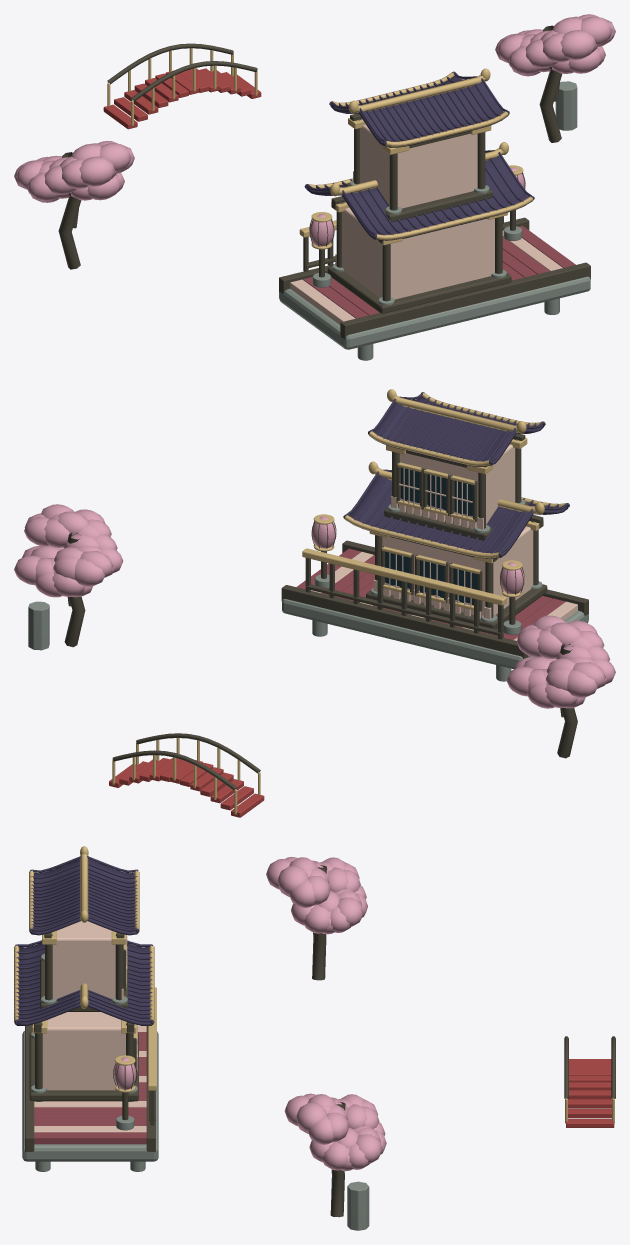
File: wano.glb
3 renders of one model, top to bottom at view 1: azimuth 30°, elevation 25°; view 2: azimuth 150°, elevation 25°; view 3: azimuth 270°, elevation 25°, orthographic.
Visible parts, largest first — view 1: Wano keep wall, Wano keep wall.001, Foundation stone, Wano keep1 roof shell, Wano keep0 roof shell, Mortised deck edge, Wano keep raised sill, Wano keep raised sill.001, Wano keep1 ridge, Twisting tree trunk, Twisting tree trunk.001, Stone lantern pedestal (+27 smaller); view 2: Wano keep1 roof shell, Foundation stone, Wano keep0 roof shell, Mortised deck edge.001, Wano keep wall, Wano keep wall.001, Railing top, Wano keep raised sill, Railing foot, Wano keep1 ridge, Stone lantern pedestal, Wano keep raised sill.001 (+10 smaller); view 3: Wano keep wall, Wano keep wall.001, Foundation stone, Wano keep1 roof shell, Wano keep0 roof shell, Wano keep raised sill, Individual deck plank.017, Stone lantern pedestal, Mortised deck edge, Railing top, Individual deck plank.013, Individual deck plank.012 (+14 smaller).
Part boxes in pixels (x1,y1,x2,y2): Wano keep wall: [342, 207, 494, 299]; Wano keep wall.001: [360, 124, 477, 208]; Foundation stone: [279, 276, 590, 349]; Wano keep1 roof shell: [330, 75, 508, 147]; Wano keep0 roof shell: [306, 155, 532, 240]; Mortised deck edge: [340, 262, 590, 339]; Wano keep raised sill: [327, 266, 511, 313]; Wano keep raised sill.001: [346, 183, 492, 222]; Wano keep1 ridge: [356, 75, 485, 112]; Twisting tree trunk: [58, 152, 81, 269]; Twisting tree trunk.001: [539, 25, 562, 142]; Stone lantern pedestal: [555, 81, 577, 130]; Wano keep1 roof shell: [369, 396, 544, 466]; Foundation stone: [282, 599, 588, 669]; Wano keep0 roof shell: [346, 475, 568, 558]; Mortised deck edge.001: [281, 585, 528, 658]; Wano keep wall: [382, 526, 533, 616]; Wano keep wall.001: [399, 444, 515, 525]; Railing top: [302, 548, 506, 605]; Wano keep raised sill: [366, 584, 547, 629]; Railing foot: [306, 584, 500, 635]; Wano keep1 ridge: [391, 395, 518, 432]; Stone lantern pedestal: [28, 601, 49, 650]; Wano keep raised sill.001: [384, 502, 528, 540]; Wano keep wall: [42, 1012, 125, 1090]; Wano keep wall.001: [52, 921, 115, 998]; Foundation stone: [22, 1031, 158, 1161]; Wano keep1 roof shell: [31, 859, 137, 935]; Wano keep0 roof shell: [16, 943, 151, 1025]; Wano keep raised sill: [29, 1032, 138, 1101]; Individual deck plank.017: [34, 1132, 146, 1144]; Stone lantern pedestal: [347, 1181, 369, 1230]; Mortised deck edge: [25, 1025, 34, 1151]; Railing top: [147, 987, 156, 1090]; Individual deck plank.013: [34, 1107, 146, 1113]; Individual deck plank.012: [34, 1101, 146, 1107].
Bounding box in the file's own units: 5.45 × 2.11 × 4.86.
